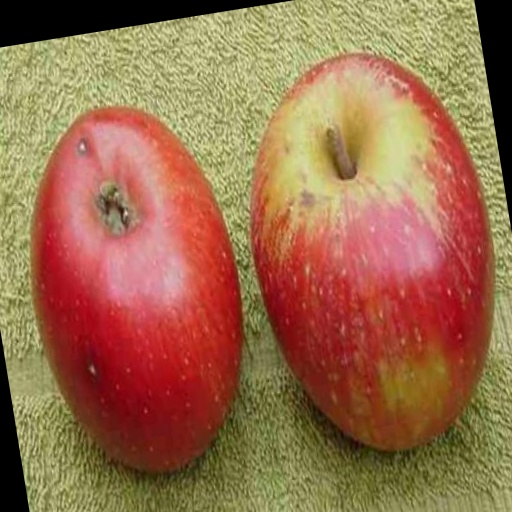fruit: (251, 54, 494, 449), (31, 108, 242, 471)
